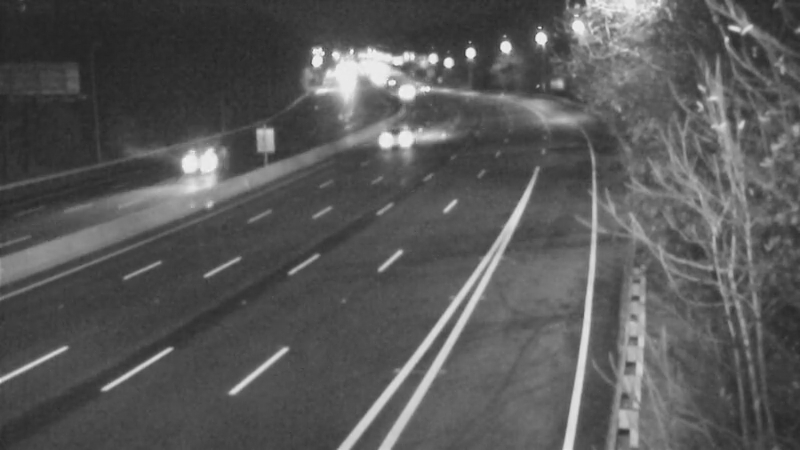vehicle: (158, 121, 238, 201), (378, 66, 428, 116), (370, 107, 420, 157)
